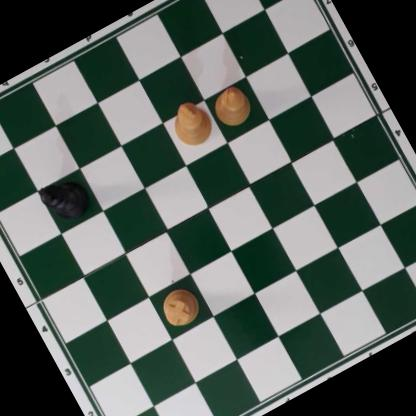black-king: (37, 171, 94, 227)
white-bishop: (206, 82, 255, 131)
white-king: (164, 94, 220, 153)
white-rook: (155, 283, 205, 332)
